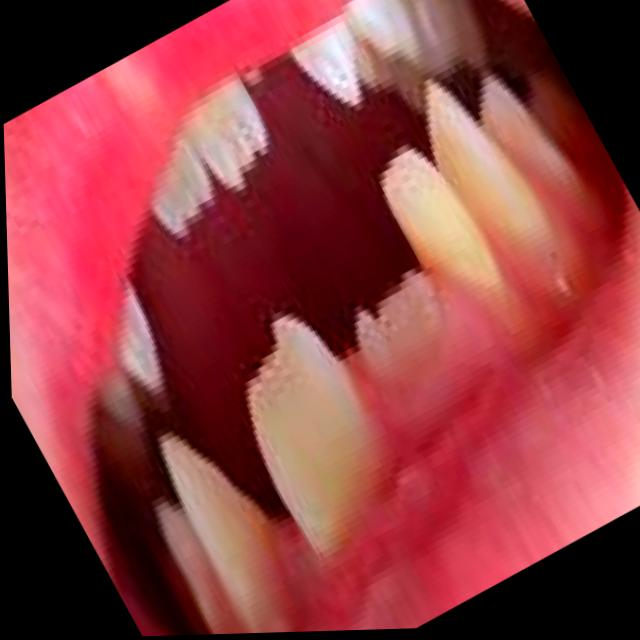hypodontia: (307, 186, 487, 426), (189, 418, 313, 565)
